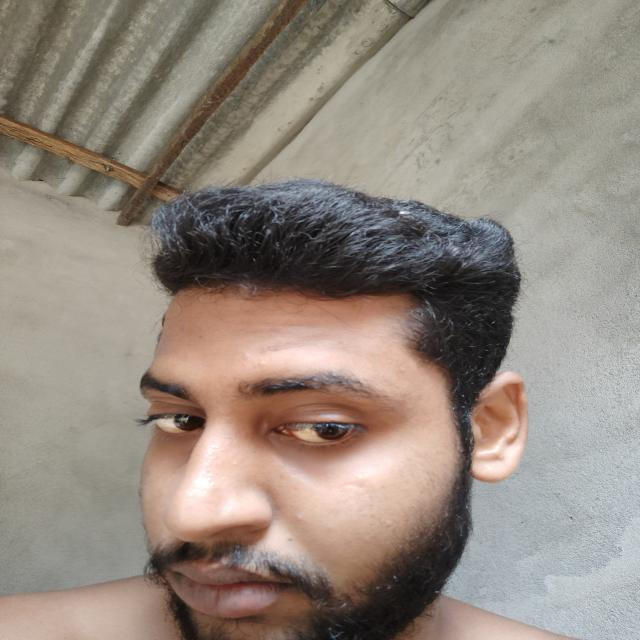Acne: (293, 512, 307, 525), (383, 516, 394, 528), (241, 350, 253, 360), (257, 359, 269, 366), (399, 364, 406, 375)
Wrinkles: (257, 340, 344, 354), (250, 320, 326, 329), (243, 312, 325, 319)
